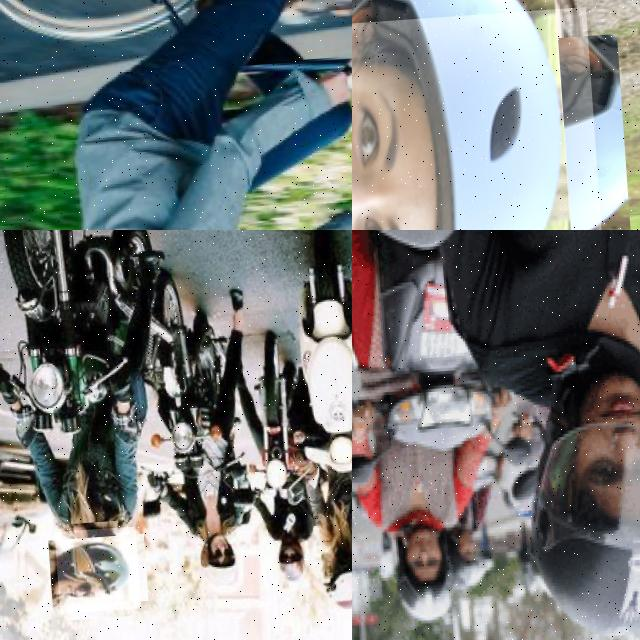helmet: (352, 5, 603, 230), (515, 363, 640, 640), (53, 526, 140, 612), (394, 532, 456, 624), (194, 532, 244, 588), (319, 549, 352, 611), (271, 535, 310, 585)
